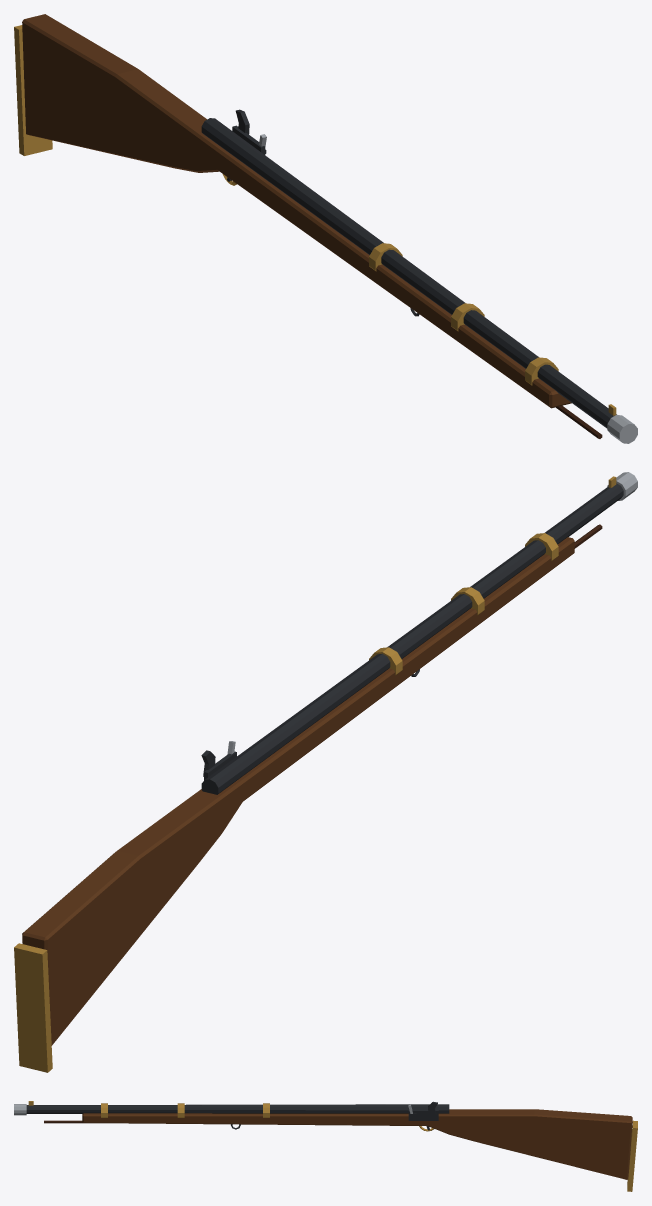
Rendered from musket.glb.
3 views of the same model, one above another, from view 1: azimuth 30°, elevation 25°; view 2: azimuth 150°, elevation 25°; view 3: azimuth 270°, elevation 25° (orthographic). The views are drawn at different scales.
Parts seen in each view (by area): view 1: musket; view 2: musket; view 3: musket.
Boxes of the visible parts, box(x1,y1,x2,y2) form: musket: box(14, 14, 637, 443); musket: box(14, 472, 637, 1072); musket: box(14, 1101, 637, 1191).
Size of the model in its own units: 0.047 by 0.2337 by 1.46.
